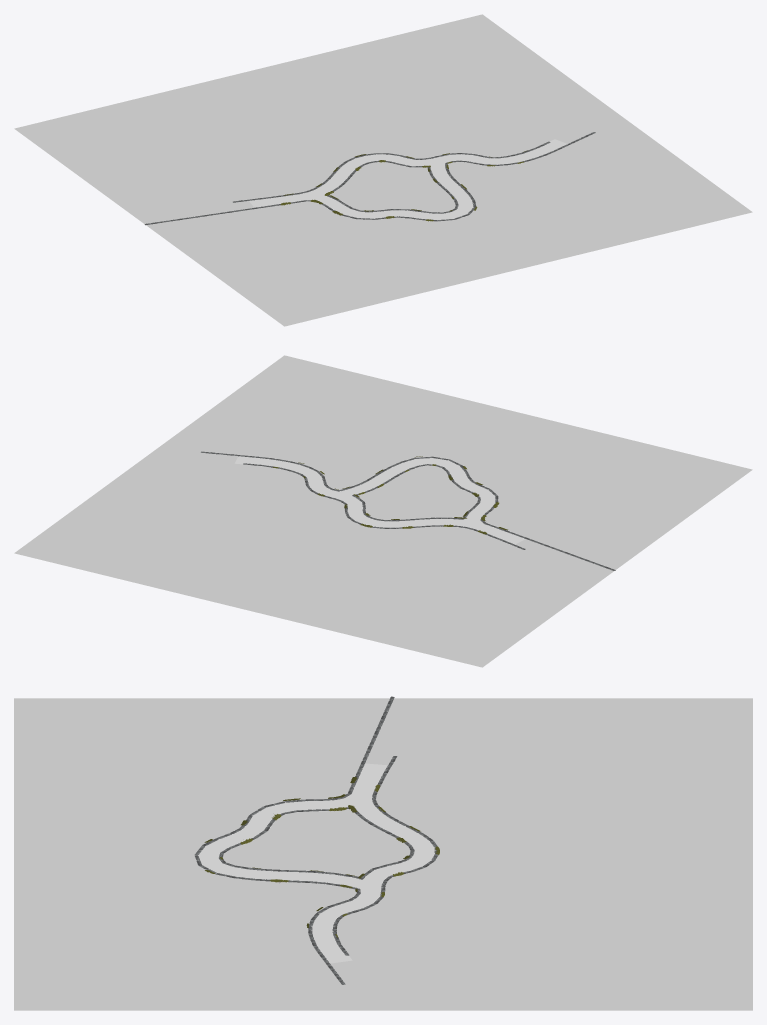
Rendered from Level 3.fbx.
The picture shows the model from 3 angles, top to bottom: view 1: azimuth 30°, elevation 25°; view 2: azimuth 150°, elevation 25°; view 3: azimuth 270°, elevation 25°; orthographic projection. The views are drawn at different scales.
Parts seen in each view (by area): view 1: Ground Test 3.001, Dirt_Ground 1.002, Dirt_Ground 1.003, Stone 1.006, Stone 1.007; view 2: Ground Test 3.001, Dirt_Ground 1.002, Dirt_Ground 1.003, Stone 1.006, Stone 1.003, Stone 1.007; view 3: Ground Test 3.001, Dirt_Ground 1.002, Dirt_Ground 1.003, Stone 1.006, Stone 1.007, Stone 1.003, Stone 1.004.
Part boxes in pixels (x1,y1,x2,y2): Ground Test 3.001: (14, 14, 752, 326); Dirt_Ground 1.002: (275, 139, 567, 203); Dirt_Ground 1.003: (249, 164, 473, 220); Stone 1.006: (144, 164, 476, 225); Stone 1.007: (233, 141, 550, 202); Ground Test 3.001: (14, 355, 752, 667); Dirt_Ground 1.002: (235, 456, 505, 536); Dirt_Ground 1.003: (340, 458, 525, 544); Stone 1.006: (340, 456, 615, 570); Stone 1.003: (201, 451, 464, 521); Stone 1.007: (243, 463, 525, 549); Ground Test 3.001: (14, 698, 752, 1010); Dirt_Ground 1.002: (311, 778, 435, 963); Dirt_Ground 1.003: (196, 763, 387, 887); Stone 1.006: (194, 696, 394, 889); Stone 1.007: (332, 756, 438, 955); Stone 1.003: (308, 807, 414, 984); Stone 1.004: (219, 807, 359, 878).
Bounding box in the file's own units: 15044 × 56.97 × 15000.
